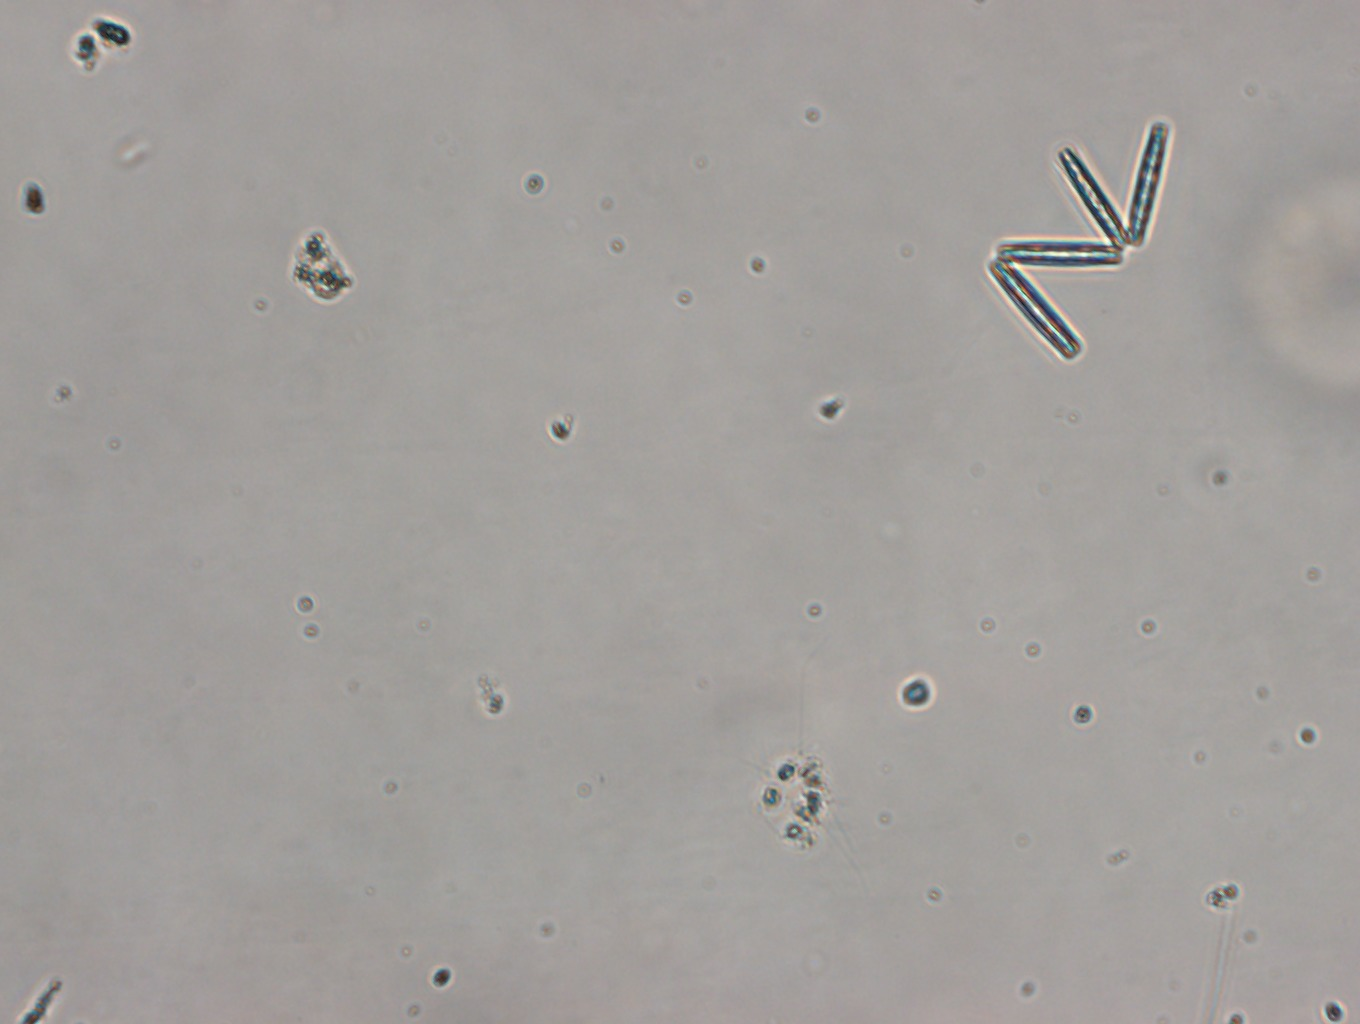thalassionema nitzschioides: (980, 117, 1178, 362)
